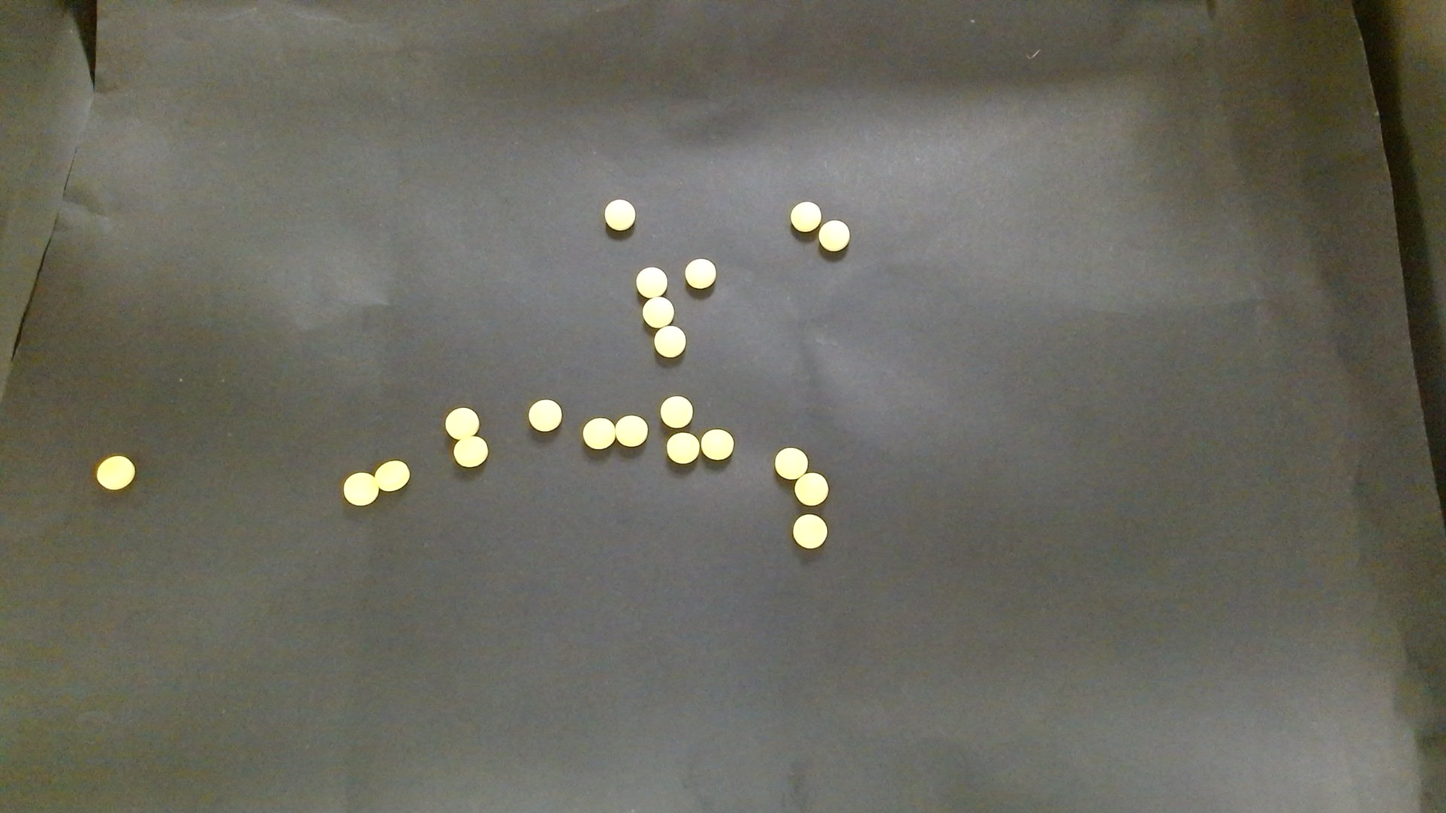Circle: (95, 455, 136, 491), (342, 472, 379, 507), (792, 513, 827, 550), (444, 406, 480, 440), (773, 446, 807, 480), (794, 472, 828, 506), (374, 460, 410, 492), (700, 428, 734, 461), (660, 395, 693, 428), (528, 399, 561, 432), (654, 325, 686, 358), (582, 418, 615, 450), (789, 201, 821, 233), (615, 415, 647, 447), (668, 431, 699, 464), (604, 199, 635, 231), (636, 266, 667, 298), (642, 297, 674, 328), (818, 220, 849, 251), (685, 258, 715, 290), (458, 437, 487, 467)
